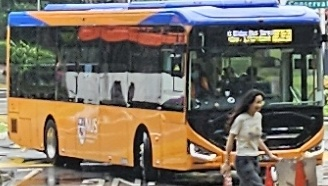bus: (269, 28, 292, 42)
